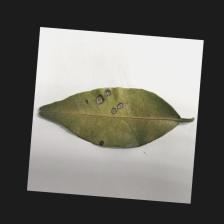canker: (88, 89, 140, 147)
